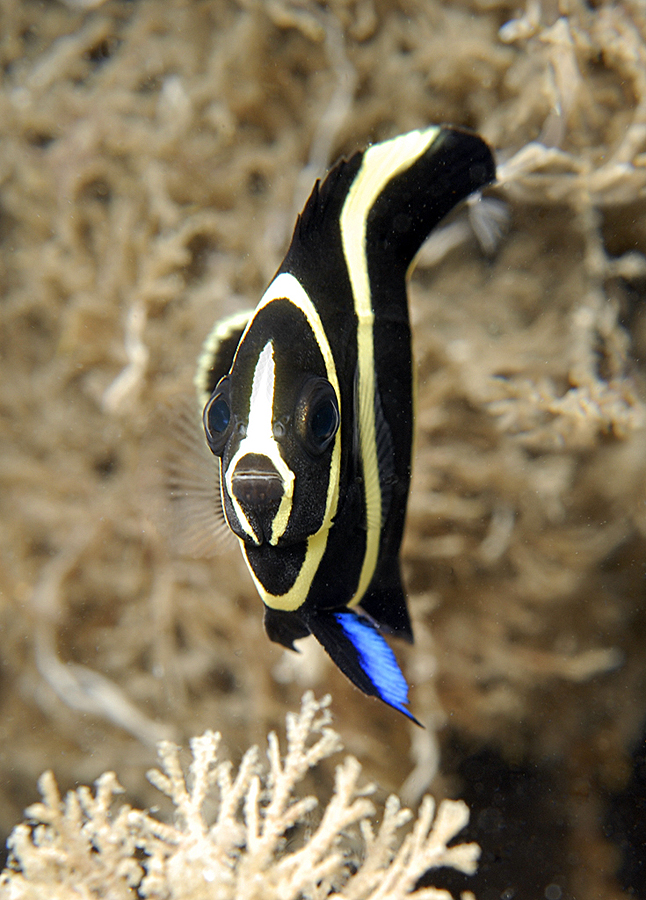Pomacanthus_paru: (166, 124, 526, 743)
